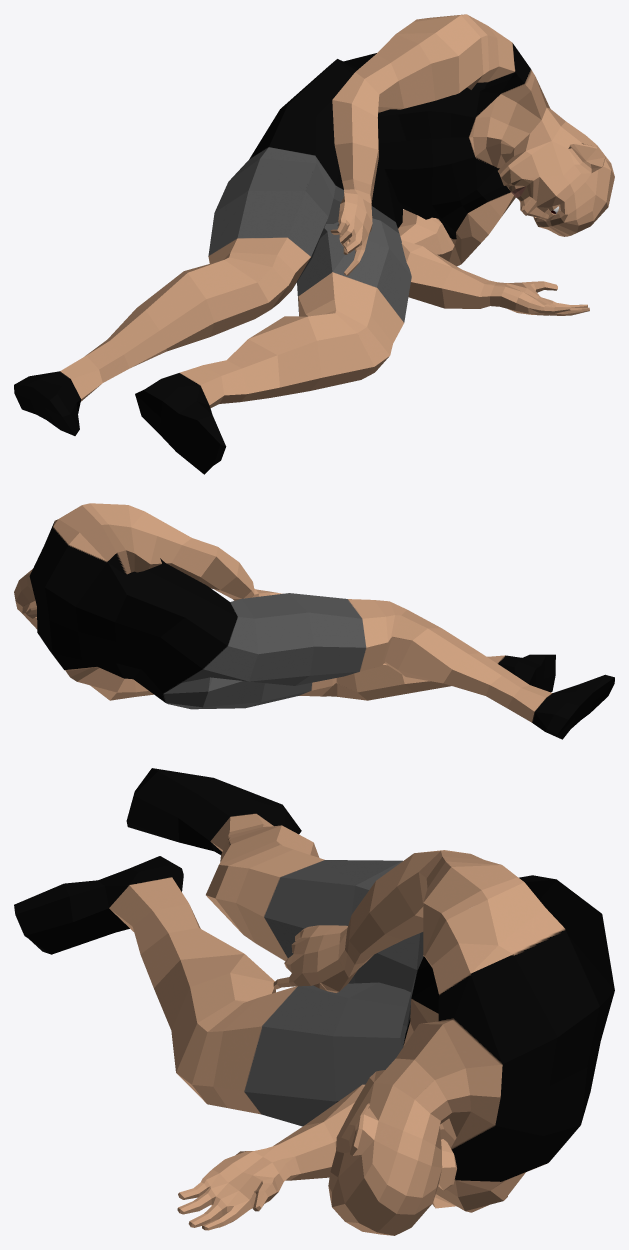
Rendered from PlayerDead(78).obj.
3 renders of one model, top to bottom at view 1: azimuth 30°, elevation 25°; view 2: azimuth 150°, elevation 25°; view 3: azimuth 270°, elevation 25°, orthographic. The views are drawn at different scales.
Parts seen in each view (by area): view 1: Plane002; view 2: Plane002; view 3: Plane002.
Part boxes in pixels (x1,y1,x2,y2): Plane002: (14,14,614,474); Plane002: (14,503,614,739); Plane002: (14,768,614,1235).
Size of the model in its own units: 1563 by 564 by 891.
